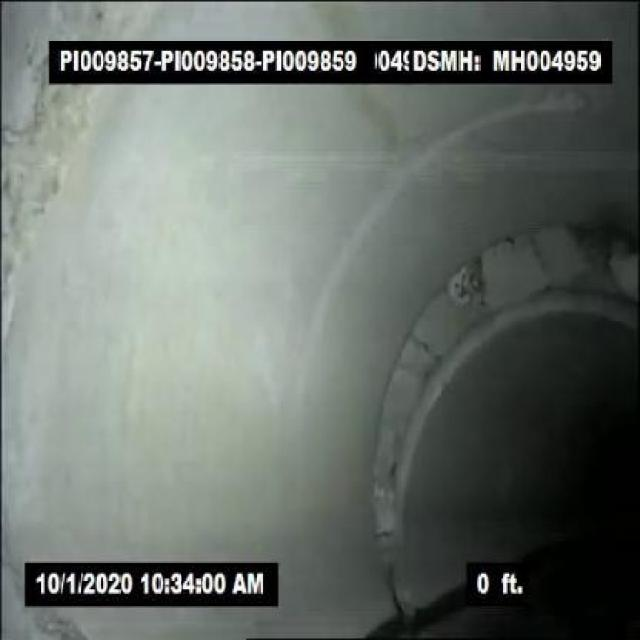Joint offset: (403, 226, 639, 348), (364, 351, 456, 540)
